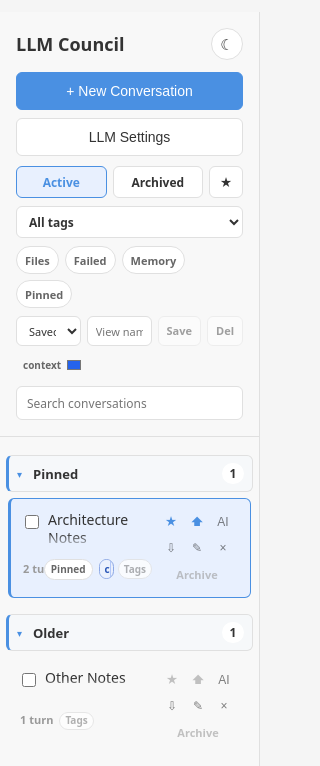
Test: Sidebar conversation management controls › applies title suggestions to a conversation when requested
Click the button titled "Auto title with LLM" next to "Architecture Notes" at x=223, y=522, box [212,511,234,533]
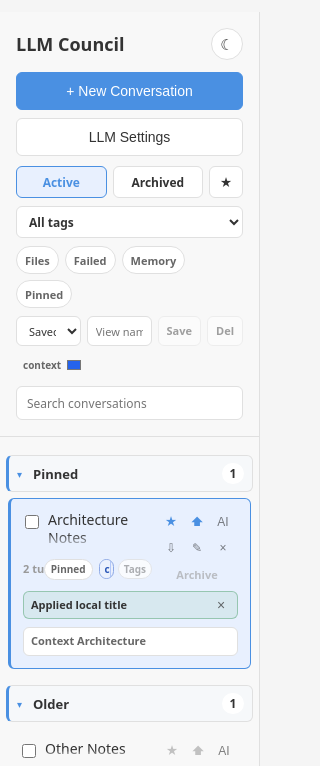
Expected: the button "Context Architecture" is shown, [23,627,238,656]
